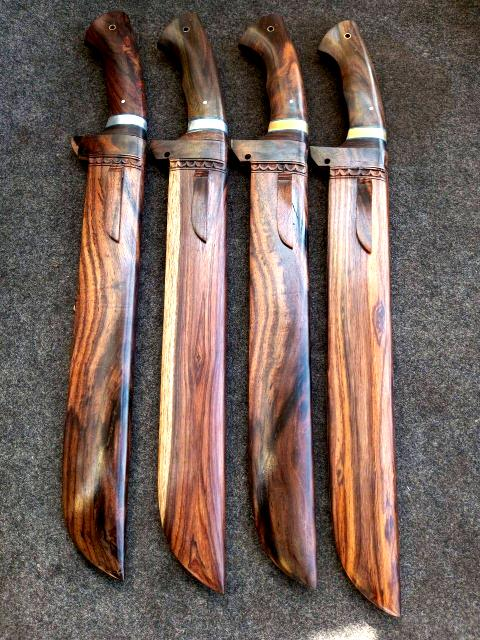long knife: (44, 11, 148, 581), (310, 19, 403, 617), (229, 12, 317, 590), (150, 11, 228, 591)
